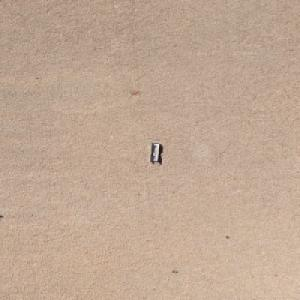ClampPart: (149, 142, 161, 162)
